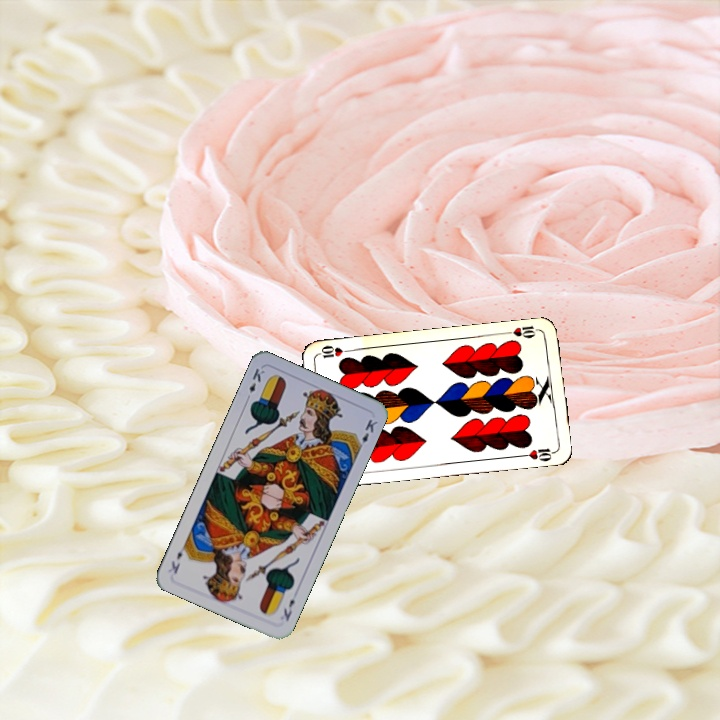EK: (242, 364, 267, 403), (279, 595, 297, 624)
H10: (502, 322, 543, 341)
